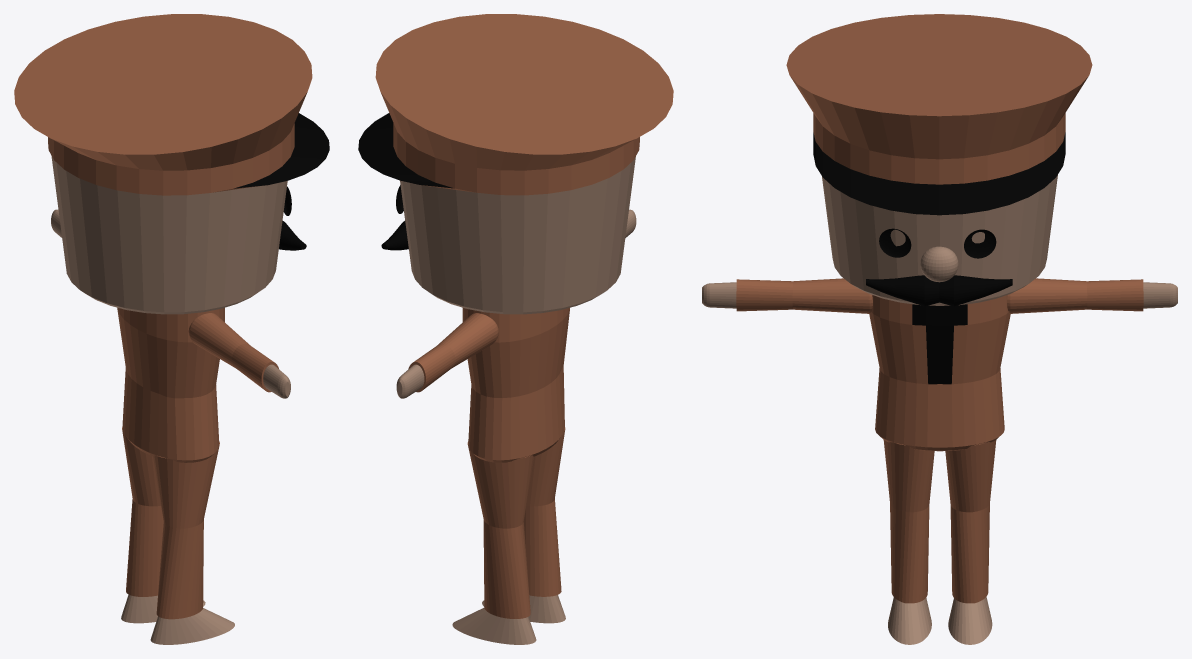
File: peach_bigstache.fbx
3 views of the same model, side by side, from view 1: azimuth 30°, elevation 25°; view 2: azimuth 150°, elevation 25°; view 3: azimuth 270°, elevation 25° (orthographic). The views are drawn at different scales.
Parts seen in each view (by area): view 1: Hat.001, Headd.002, Cylinder.049, Cylinder.052, Cylinder.053, Cylinder.050, Cylinder.047, Cylinder.038, Cylinder.055, Cylinder.017; view 2: Hat.001, Headd.002, Cylinder.049, Cylinder.053, Cylinder.052, Cylinder.051, Cylinder.038, Cylinder.047, Cylinder.056, Cylinder.017; view 3: Hat.001, Cylinder.049, Headd.002, Cylinder.053, Cylinder.052, Cylinder.051, Cylinder.050, Cylinder.017, Cylinder.038, Cylinder.047, Eyes.007, Sphere.002 (+2 smaller).
Part boxes in pixels (box(x1,y1,x2,y2)): Hat.001: box(14, 14, 329, 195); Headd.002: box(51, 155, 287, 314); Cylinder.049: box(117, 307, 224, 462); Cylinder.052: box(152, 442, 219, 619); Cylinder.053: box(122, 426, 163, 596); Cylinder.050: box(188, 313, 278, 392); Cylinder.047: box(150, 608, 234, 644); Cylinder.038: box(121, 594, 205, 623); Cylinder.055: box(263, 364, 290, 398); Cylinder.017: box(279, 221, 306, 250); Hat.001: box(358, 14, 673, 195); Headd.002: box(400, 156, 635, 314); Cylinder.049: box(462, 308, 569, 462); Cylinder.053: box(467, 441, 534, 618); Cylinder.052: box(523, 427, 565, 596); Cylinder.051: box(408, 313, 498, 392); Cylinder.038: box(452, 608, 536, 644); Cylinder.047: box(482, 595, 565, 623); Cylinder.056: box(396, 364, 424, 398); Cylinder.017: box(381, 221, 408, 250); Hat.001: box(786, 14, 1092, 215); Cylinder.049: box(869, 295, 1010, 451); Headd.002: box(822, 175, 1057, 305); Cylinder.053: box(945, 440, 996, 603); Cylinder.052: box(883, 440, 934, 603); Cylinder.051: box(1007, 278, 1143, 313); Cylinder.050: box(736, 278, 872, 313); Cylinder.017: box(866, 275, 1012, 306); Cylinder.038: box(948, 597, 992, 644); Cylinder.047: box(888, 597, 931, 644); Eyes.007: box(879, 228, 996, 258); Sphere.002: box(920, 246, 958, 282).
Size of the model in its own units: 239 by 453 by 346.
